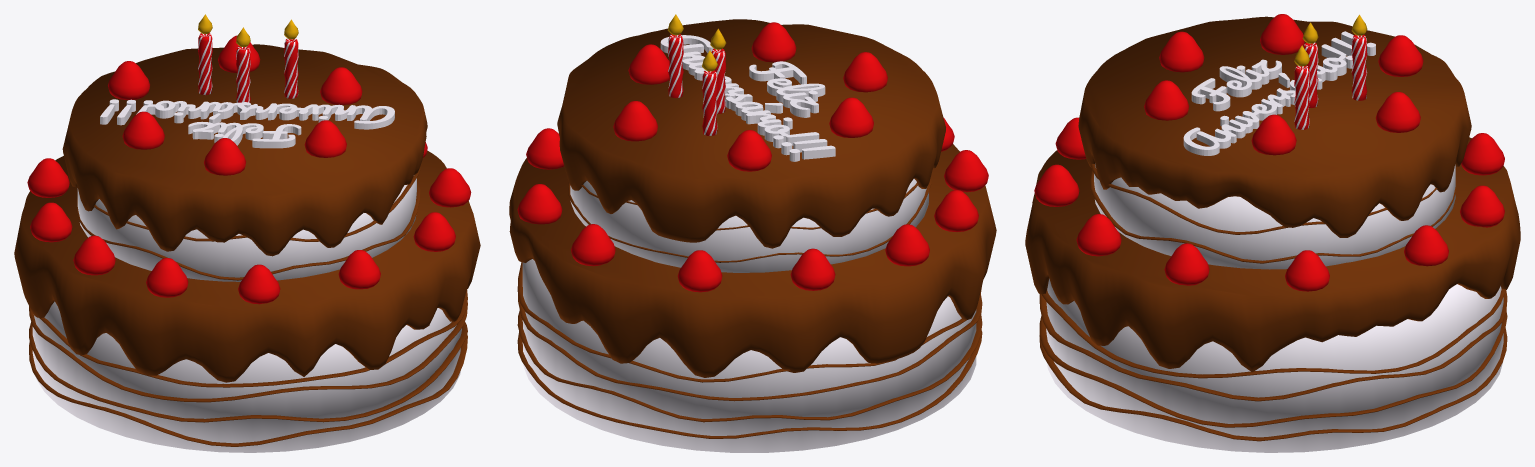
Rendered from bday-asset.glb.
The picture shows the model from 3 angles, left to right: view 1: azimuth 30°, elevation 25°; view 2: azimuth 150°, elevation 25°; view 3: azimuth 270°, elevation 25°; orthographic projection. The views are drawn at different scales.
Parts seen in each view (by area): view 1: Cylinder.001, Cylinder, Sphere.009, Torus, Text, vela.002; view 2: Cylinder.001, Cylinder, Sphere.009, Torus, Text, vela.002; view 3: Cylinder.001, Cylinder, Sphere.009, Torus, Text, vela.002.
Boxes of the visible parts, x1=… form: Cylinder.001: x1=14, y1=44, x2=480, y2=382; Cylinder: x1=32, y1=178, x2=461, y2=452; Sphere.009: x1=27, y1=35, x2=471, y2=304; Torus: x1=29, y1=168, x2=467, y2=446; Text: x1=100, y1=99, x2=394, y2=148; vela.002: x1=198, y1=14, x2=298, y2=102; Cylinder.001: x1=509, y1=19, x2=996, y2=377; Cylinder: x1=522, y1=179, x2=976, y2=452; Sphere.009: x1=517, y1=22, x2=988, y2=292; Torus: x1=517, y1=176, x2=982, y2=438; Text: x1=660, y1=35, x2=835, y2=161; vela.002: x1=667, y1=14, x2=726, y2=135; Cylinder.001: x1=1025, y1=16, x2=1520, y2=372; Cylinder: x1=1046, y1=163, x2=1503, y2=452; Sphere.009: x1=1034, y1=14, x2=1504, y2=291; Torus: x1=1039, y1=163, x2=1507, y2=441; Text: x1=1183, y1=31, x2=1375, y2=155; vela.002: x1=1294, y1=14, x2=1367, y2=129.
Bounding box in the file's own units: 2.15 × 1.63 × 2.15.
